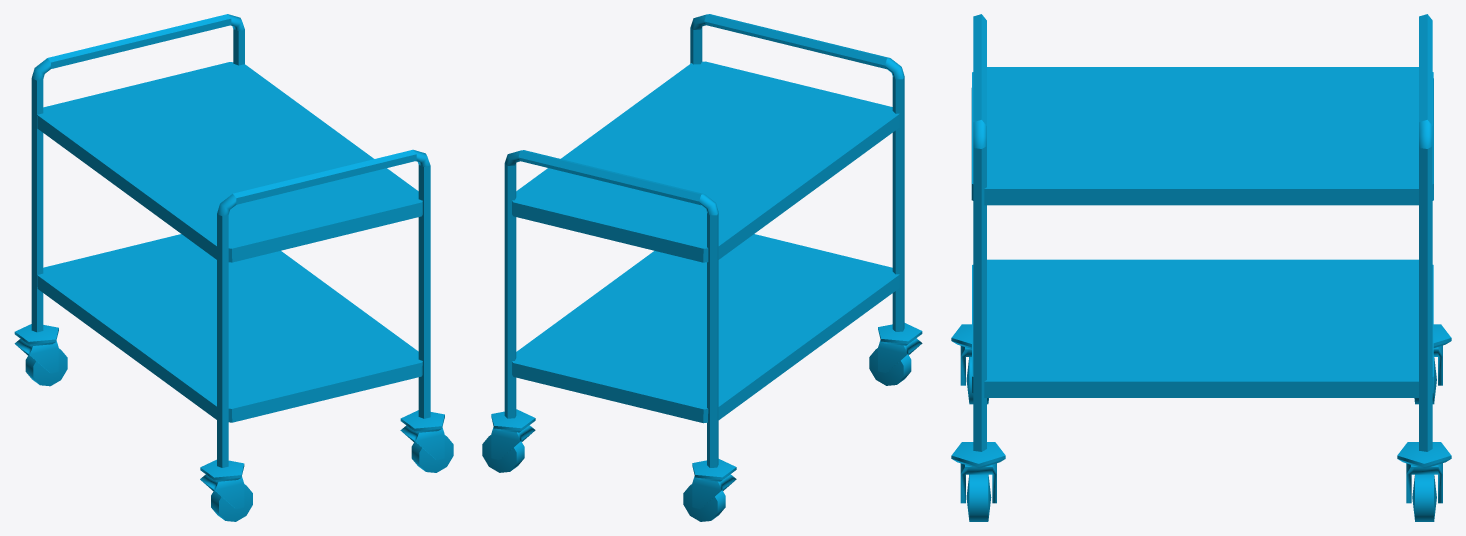
The model's file is Chariot_01_Lod1.fbx.
The picture shows the model from 3 angles, left to right: view 1: azimuth 30°, elevation 25°; view 2: azimuth 150°, elevation 25°; view 3: azimuth 270°, elevation 25°; orthographic projection. The views are drawn at different scales.
Visible parts, largest first — view 1: Chariot_01_Lod1; view 2: Chariot_01_Lod1; view 3: Chariot_01_Lod1.
Part boxes in pixels (<box>): Chariot_01_Lod1: <box>14,14,453,521</box>; Chariot_01_Lod1: <box>482,14,922,521</box>; Chariot_01_Lod1: <box>951,14,1451,521</box>.
Size of the model in its own units: 67.21 by 85.8 by 99.8.
